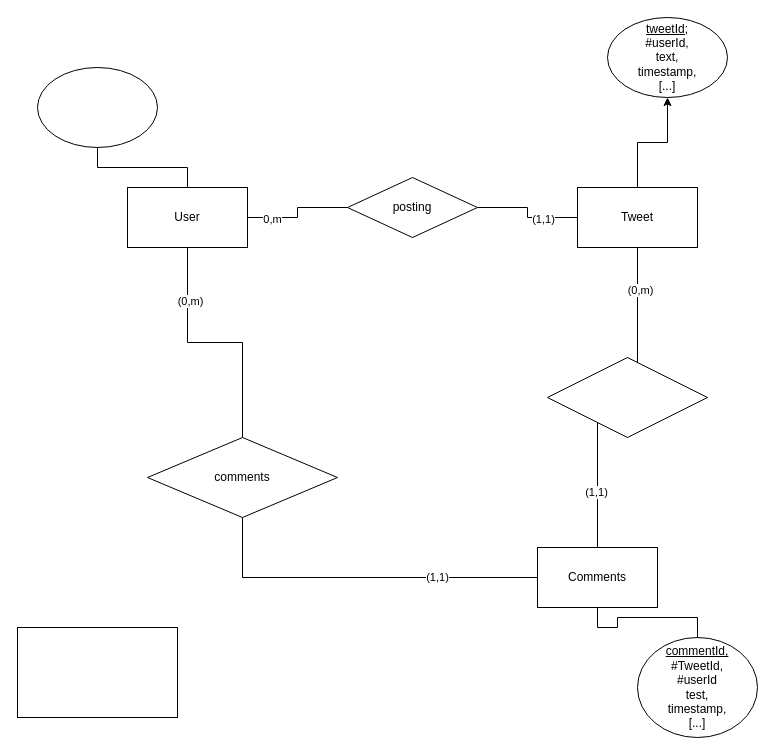
Some shapes in this 775 by 755 pixel diagram are drawn without their labels. The centre of each missing label's shape, as x and y in pixels:
"3 tables: - user - Tweet - Comments" goes at (x=97, y=672).
"commenting in Tweet" goes at (x=627, y=397).
"u serId; userName, [...]" goes at (x=97, y=107).
